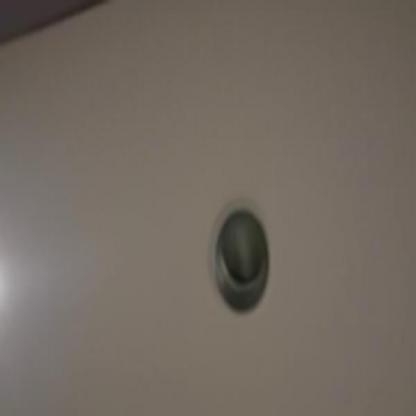light_off: (200, 167, 285, 335)
